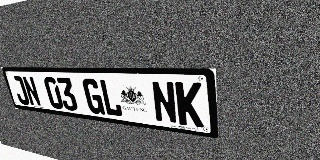0: (43, 77, 64, 110)
3: (56, 77, 78, 111)
G: (81, 78, 105, 115)
J: (11, 76, 30, 105)
K: (175, 82, 204, 128)
L: (98, 79, 123, 117)
N: (150, 81, 178, 124), (21, 76, 42, 107)
